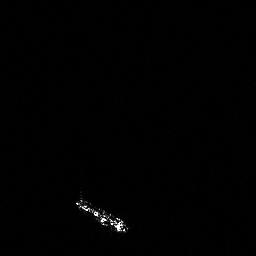ship: (72, 195, 133, 236)
